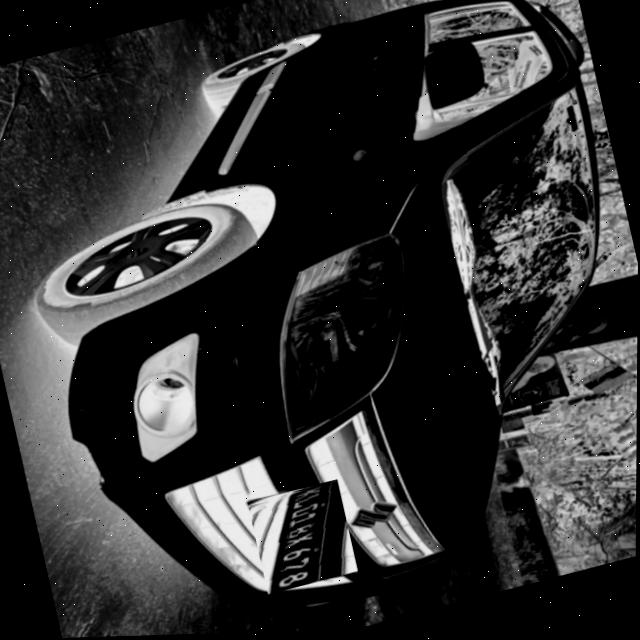Non_registered: (246, 481, 358, 596)
